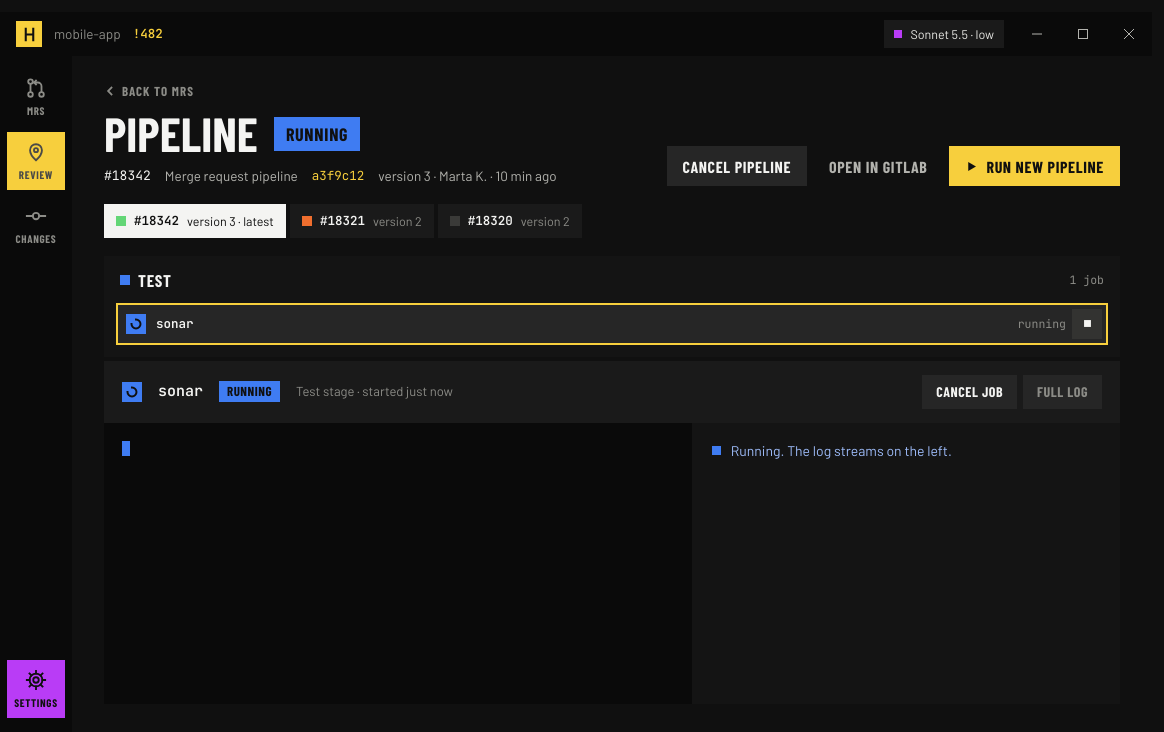
Test: after a refused write every write action is disabled (F-20.4) › F-20.4 a refused Cancel pipeline disables Cancel pipeline, the row Cancel and Run new pipeline
Click the button "Cancel pipeline". click: (737, 166)
box: [666, 146, 807, 186]
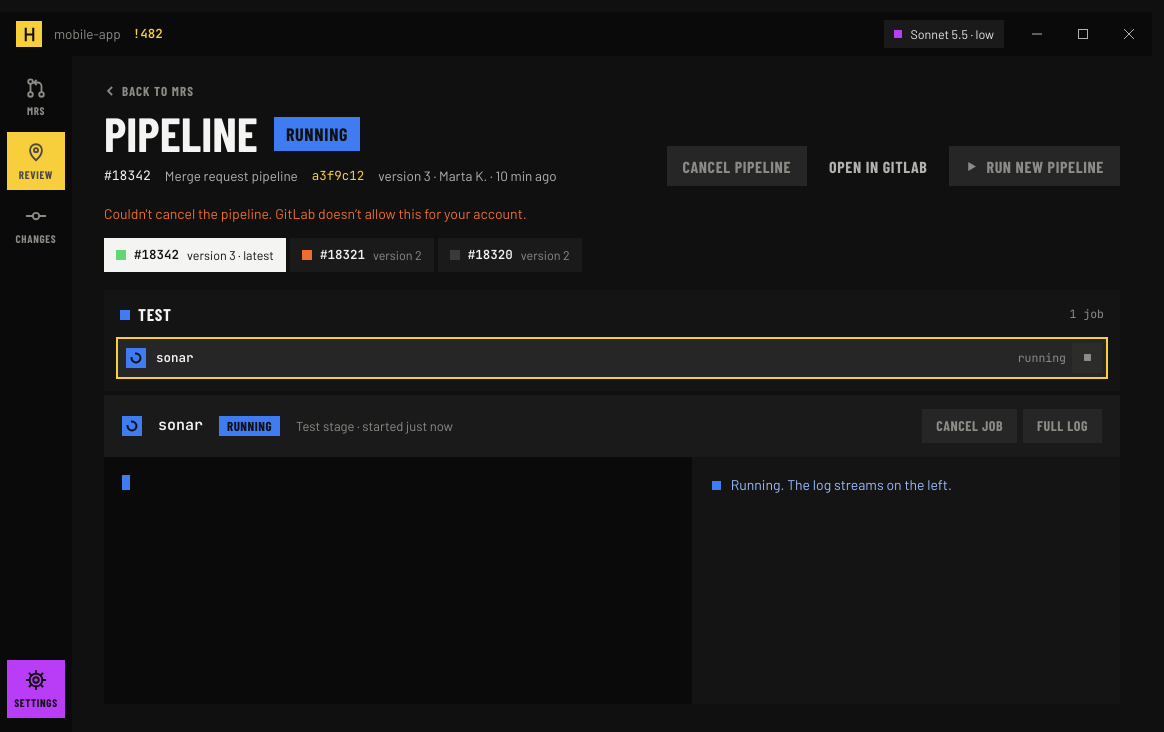
Now the button "Cancel pipeline" is disabled, box [666, 146, 807, 186]
Now the button named "Cancel sonar" is disabled, box [1072, 343, 1102, 373]
Now the button "Run new pipeline" is disabled, box [950, 146, 1120, 186]
